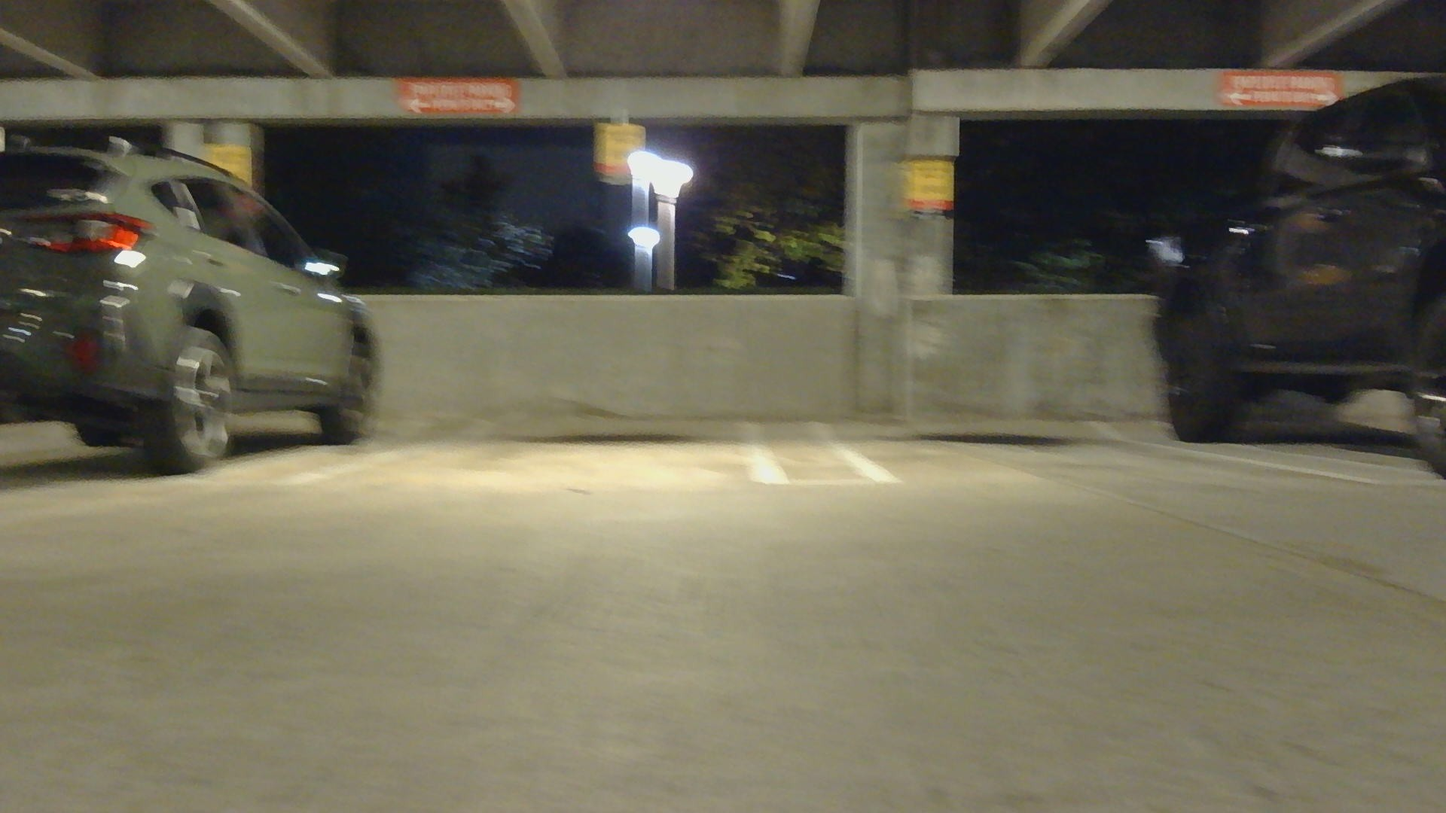empty_spot: (786, 334, 1391, 488), (253, 332, 815, 492)
occupied_spot: (1124, 48, 1446, 488), (0, 120, 381, 486)
